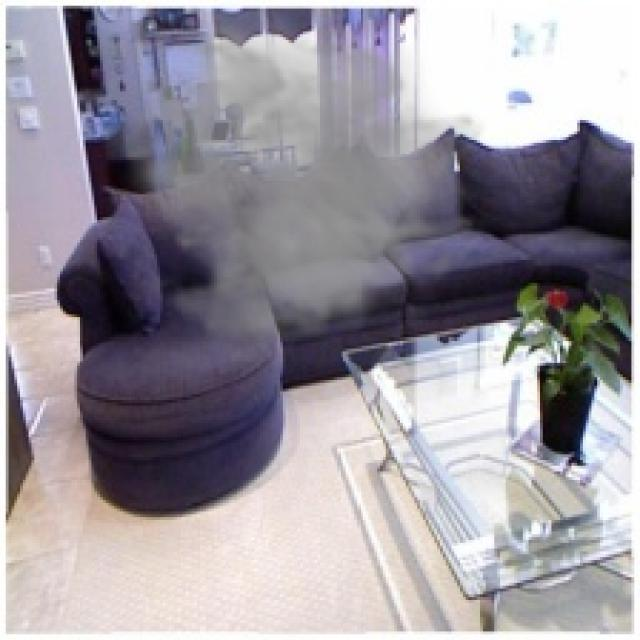smoke: (114, 12, 489, 374)
